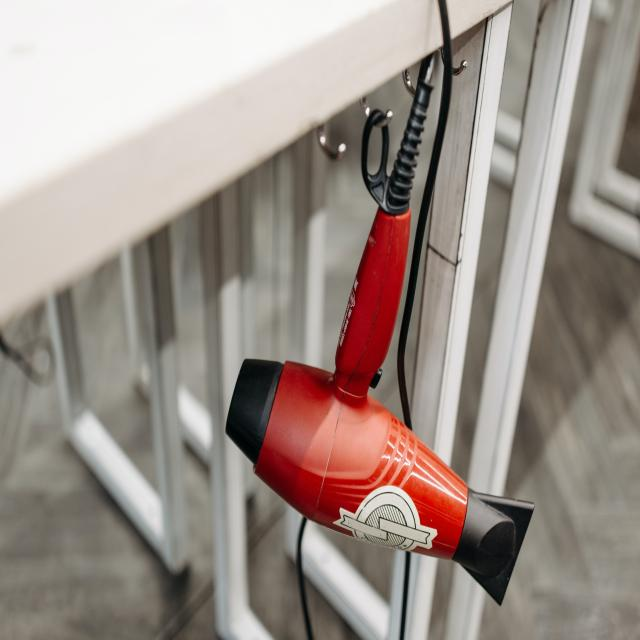dryer: (224, 81, 536, 606)
